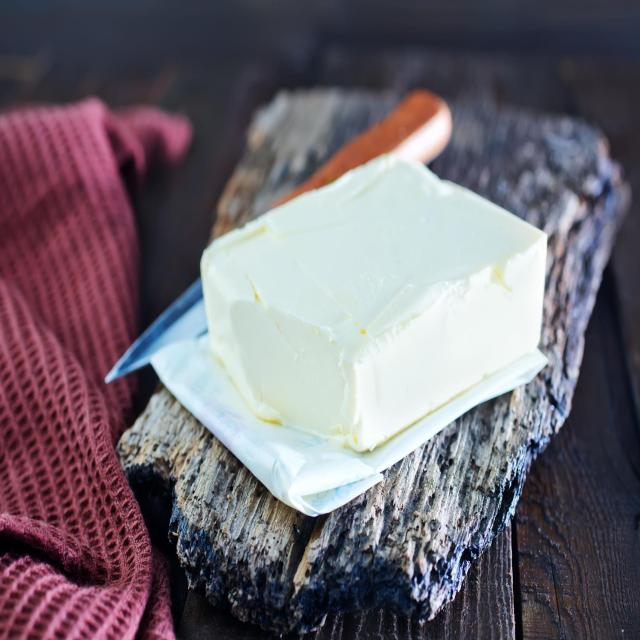Butter: (198, 152, 548, 450)
